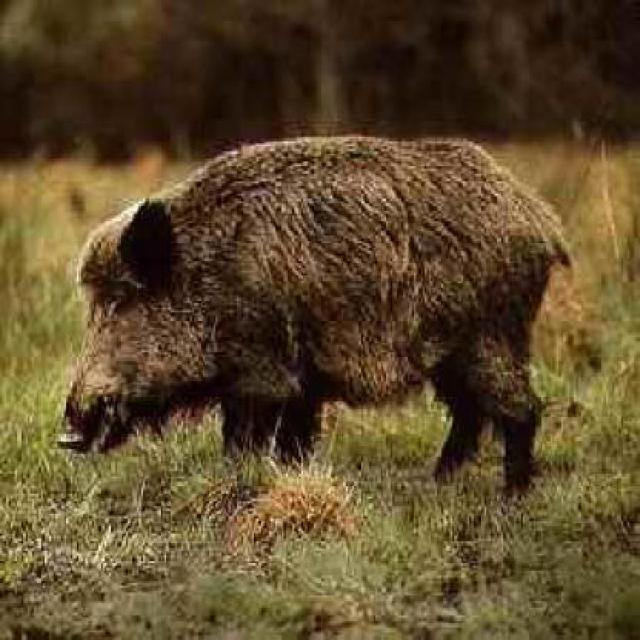wildboar: (45, 120, 580, 486)
